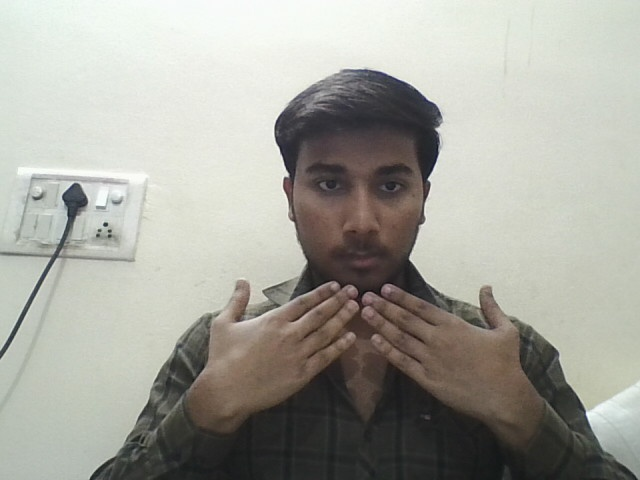thanks: (121, 265, 605, 433)
